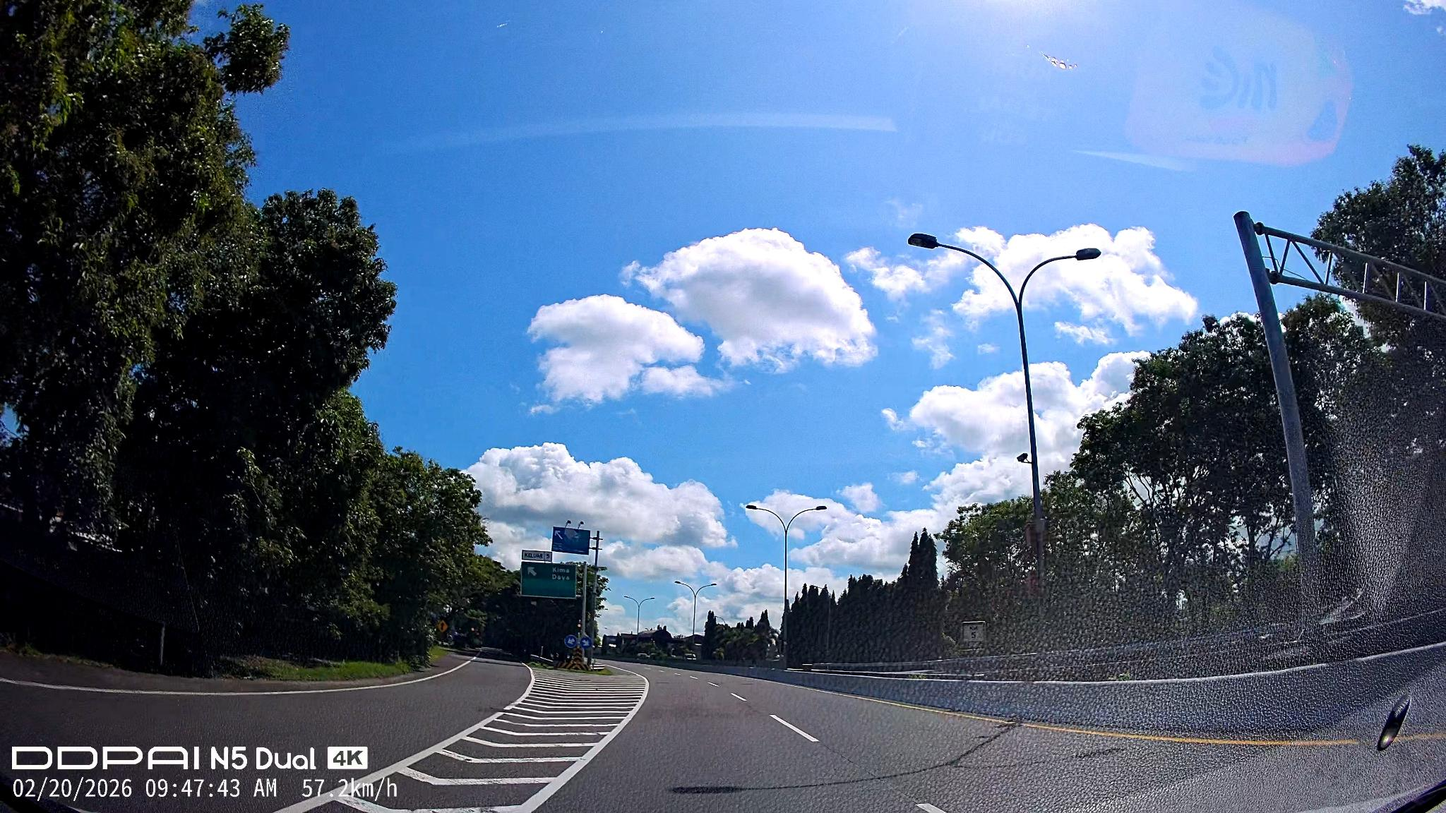rambu_teks: (520, 560, 577, 600)
